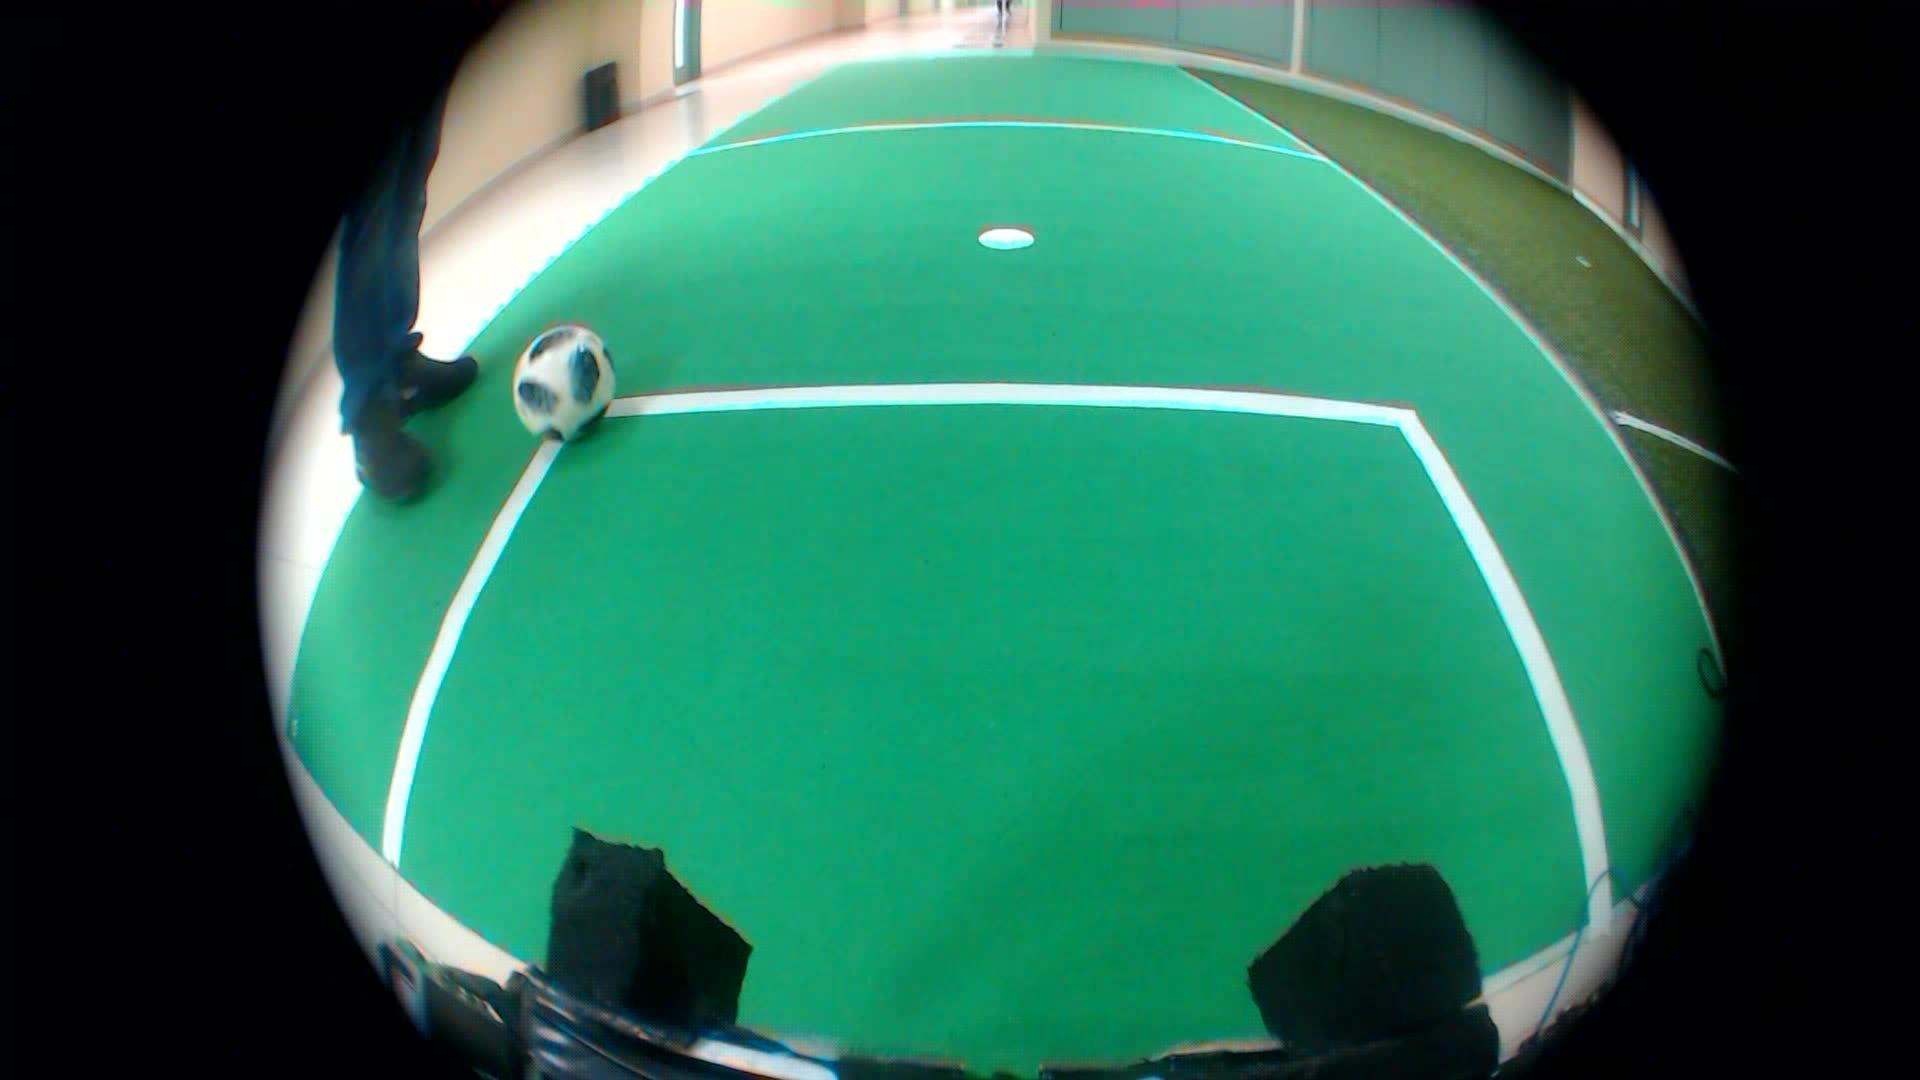ball: (495, 316, 618, 456)
